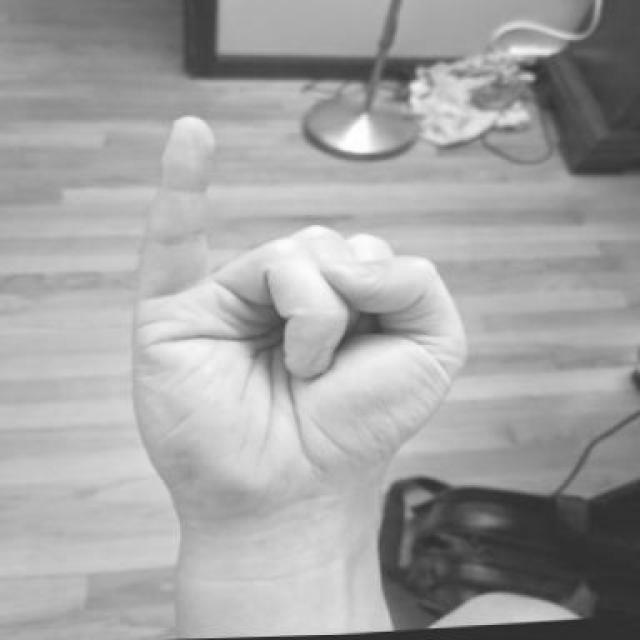I: (108, 93, 483, 537)
